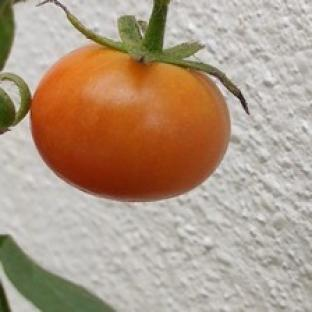Tomato: (31, 45, 229, 200)
